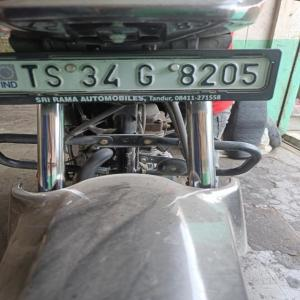Plate: (1, 58, 265, 90)
